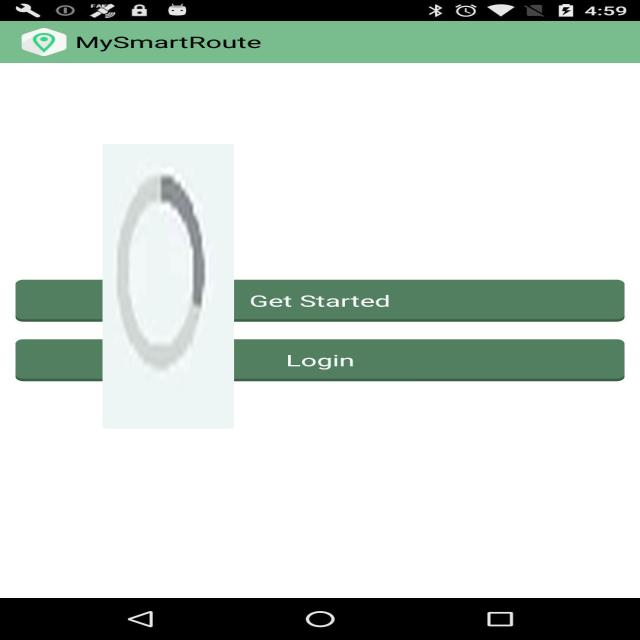misdirection: (103, 144, 234, 429)
